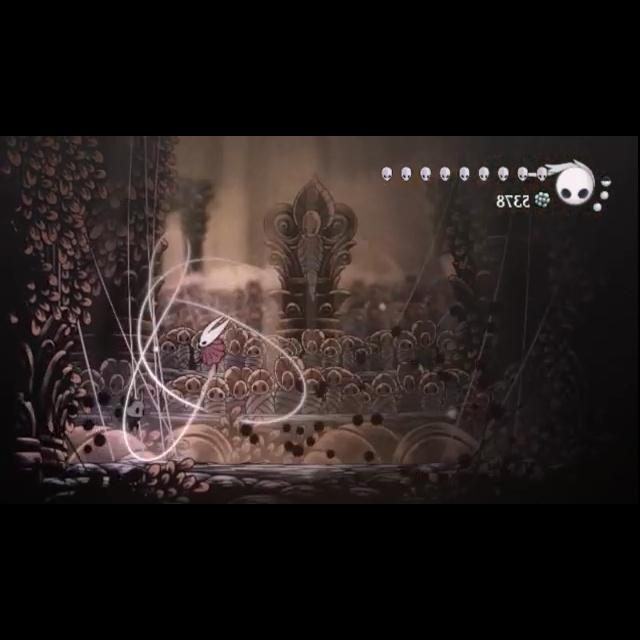EnemyAirAttack: (177, 312, 241, 378)
Player: (115, 387, 151, 437)
